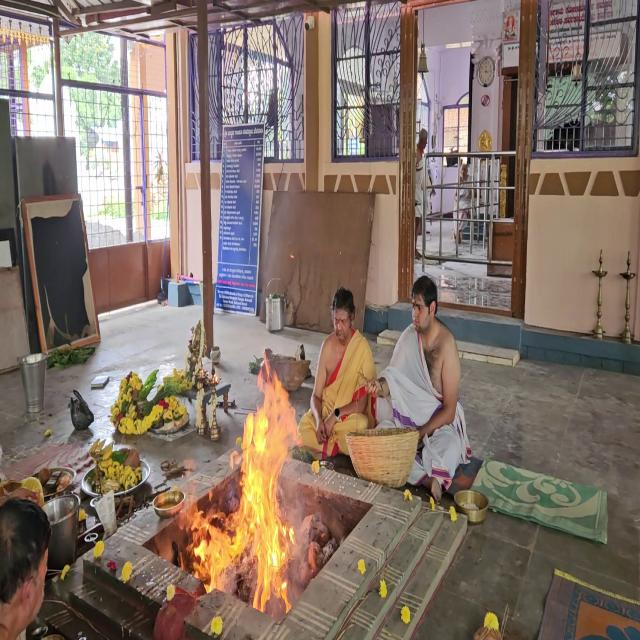fire: (169, 356, 311, 615)
